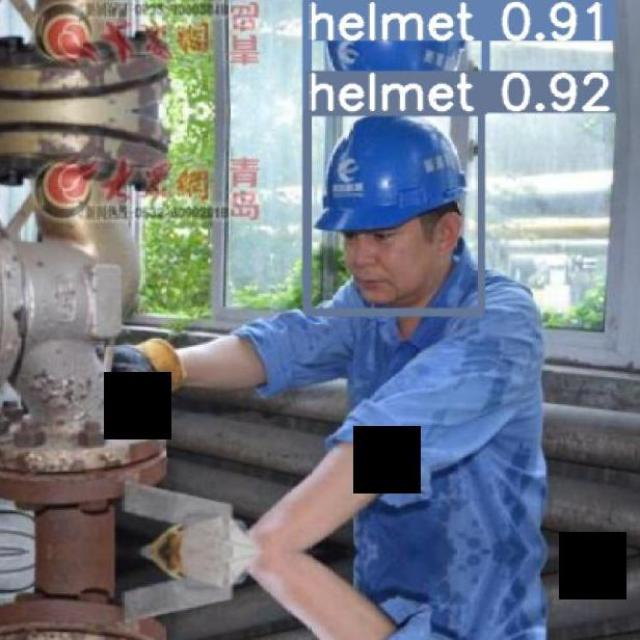blue helmet: (295, 113, 494, 245)
